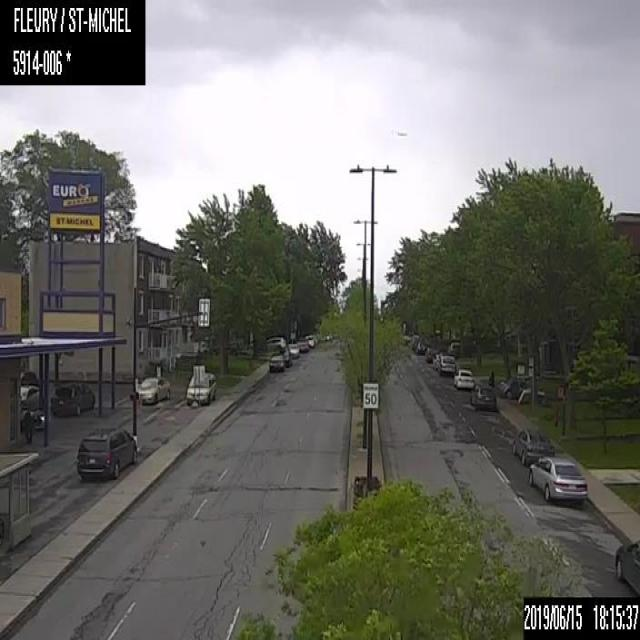pedestrian: (22, 408, 34, 446), (488, 368, 494, 386)
vehicle: (75, 423, 137, 480), (527, 457, 589, 508), (510, 425, 556, 464), (50, 381, 94, 419), (613, 537, 639, 595), (136, 372, 173, 406), (184, 368, 214, 406), (471, 385, 495, 408), (452, 366, 475, 390), (18, 384, 38, 408), (500, 376, 524, 396), (434, 352, 456, 373), (266, 335, 286, 352), (268, 354, 286, 372), (298, 339, 310, 354), (288, 340, 298, 357)
